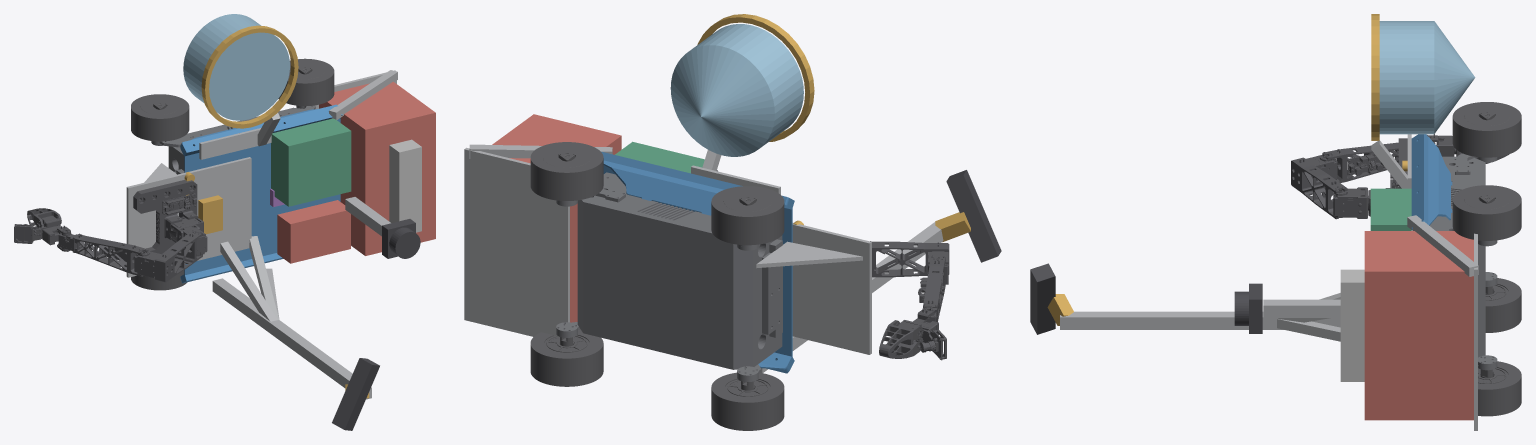
The model's file is assembly_grasp_front.glb.
3 renders of one model, left to right at view 1: azimuth 30°, elevation 25°; view 2: azimuth 150°, elevation 25°; view 3: azimuth 270°, elevation 25°, orthographic. The views are drawn at different scales.
Parts seen in each view (by area): view 1: mod/power_station(~Anker SOLIX C300 class, 24x16x14cm), mod/trash_bag(soft), wildbot/upper_blue_v1_1, mod/edge_compute_box(JetsonOrinNano|miniPC), mod/arm_front_plate_6mmAl, mod/power_distribution_box, omx_f/link0, mod/camera_mast_2020, mod/outlet_strip(3x AC, on top of power station), wildbot/new_wheel_v1__2___1__1, mod/bag_hoop_ring, omx_f/link3 (+16 smaller); view 2: wildbot/base_link, mod/rear_rack_floor, mod/trash_bag(soft), mod/arm_front_plate_6mmAl, wildbot/upper_blue_v1_1, wildbot/new_wheel_v1__2___1__1, wildbot/new_wheel_v1__1__1, wildbot/new_wheel_v1__2__1, wildbot/new_wheel_v1_1, mod/power_station(~Anker SOLIX C300 class, 24x16x14cm), mod/camera_D455, omx_f/link2 (+10 smaller); view 3: mod/power_station(~Anker SOLIX C300 class, 24x16x14cm), mod/trash_bag(soft), mod/camera_mast_2020, wildbot/new_wheel_v1__2___1__1, wildbot/new_wheel_v1__1__1, wildbot/upper_blue_v1_1, mod/outlet_strip(3x AC, on top of power station), wildbot/base_link, omx_f/link2, wildbot/new_wheel_v1_1, mod/edge_compute_box(JetsonOrinNano|miniPC), wildbot/new_wheel_v1__2__1 (+12 smaller).
Part boxes in pixels (left/top/right/bottom): mod/power_station(~Anker SOLIX C300 class, 24x16x14cm): left=319, top=81, right=435, bottom=255; mod/trash_bag(soft): left=183, top=14, right=289, bottom=120; wildbot/upper_blue_v1_1: left=180, top=104, right=342, bottom=283; mod/edge_compute_box(JetsonOrinNano|miniPC): left=271, top=118, right=351, bottom=206; mod/arm_front_plate_6mmAl: left=126, top=157, right=251, bottom=277; mod/power_distribution_box: left=277, top=200, right=350, bottom=263; omx_f/link0: left=133, top=180, right=203, bottom=263; mod/camera_mast_2020: left=212, top=278, right=371, bottom=399; mod/outlet_strip(3x AC, on top of power station): left=389, top=139, right=421, bottom=232; wildbot/new_wheel_v1__2___1__1: left=131, top=94, right=189, bottom=141; mod/bag_hoop_ring: left=201, top=25, right=298, bottom=128; omx_f/link3: left=58, top=233, right=149, bottom=276; wildbot/base_link: left=577, top=172, right=782, bottom=369; mod/rear_rack_floor: left=464, top=147, right=569, bottom=337; mod/trash_bag(soft): left=670, top=24, right=803, bottom=156; mod/arm_front_plate_6mmAl: left=792, top=222, right=871, bottom=354; wildbot/upper_blue_v1_1: left=601, top=151, right=794, bottom=373; wildbot/new_wheel_v1__2___1__1: left=711, top=186, right=784, bottom=245; wildbot/new_wheel_v1__1__1: left=530, top=142, right=603, bottom=200; wildbot/new_wheel_v1__2__1: left=711, top=372, right=784, bottom=430; wildbot/new_wheel_v1_1: left=530, top=329, right=603, bottom=386; mod/power_station(~Anker SOLIX C300 class, 24x16x14cm): left=492, top=114, right=621, bottom=322; mod/camera_D455: left=946, top=170, right=1001, bottom=262; omx_f/link2: left=870, top=241, right=949, bottom=285; mod/power_station(~Anker SOLIX C300 class, 24x16x14cm): left=1364, top=231, right=1473, bottom=420; mod/trash_bag(soft): left=1379, top=21, right=1475, bottom=134; mod/camera_mast_2020: left=1060, top=311, right=1340, bottom=329; wildbot/new_wheel_v1__2___1__1: left=1452, top=102, right=1521, bottom=157; wildbot/new_wheel_v1__1__1: left=1452, top=185, right=1521, bottom=240; wildbot/upper_blue_v1_1: left=1411, top=134, right=1452, bottom=229; mod/outlet_strip(3x AC, on top of power station): left=1340, top=269, right=1364, bottom=381; wildbot/base_link: left=1429, top=156, right=1485, bottom=357; omx_f/link2: left=1291, top=155, right=1347, bottom=219; wildbot/new_wheel_v1_1: left=1478, top=361, right=1521, bottom=416; mod/edge_compute_box(JetsonOrinNano|miniPC): left=1370, top=188, right=1411, bottom=230; wildbot/new_wheel_v1__2__1: left=1485, top=278, right=1521, bottom=332.
Bounding box in the file's own units: 0.7631 × 0.5463 × 0.718.
